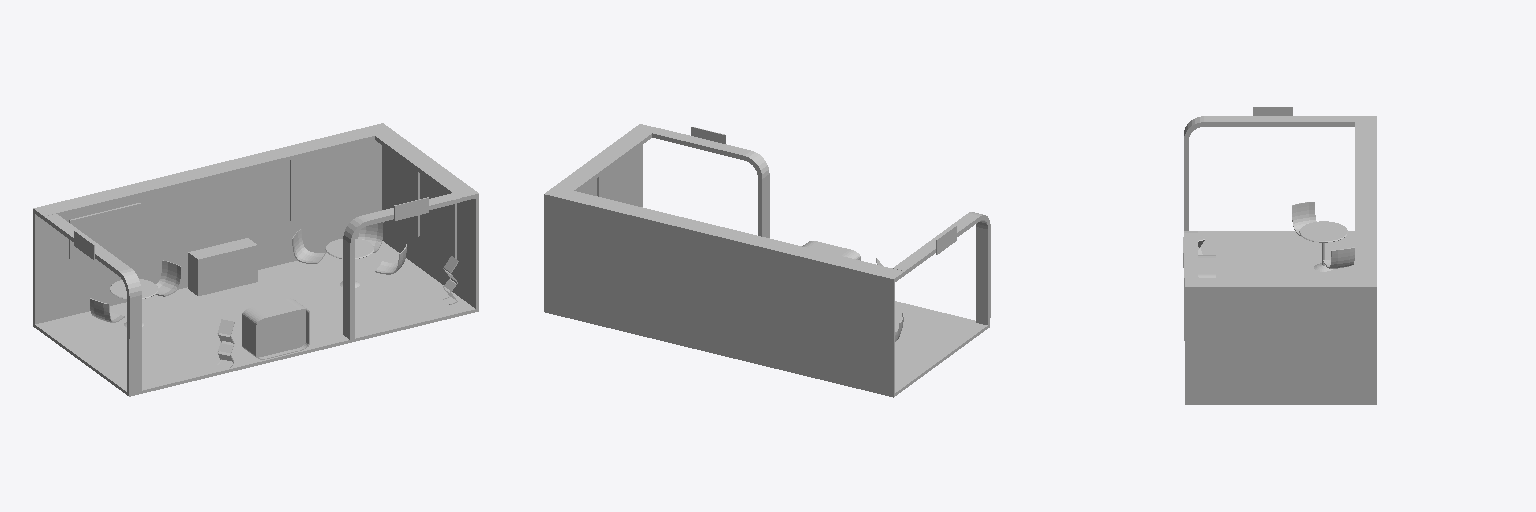
Rendered from exhibstall.obj.
3 views of the same model, side by side, from view 1: azimuth 30°, elevation 25°; view 2: azimuth 150°, elevation 25°; view 3: azimuth 270°, elevation 25° (orthographic).
Parts seen in each view (by area): view 1: Box001_Untitled.024, Box004_Untitled.008, Rectangle001_Untitled.005, Box007_Untitled.010, Line001_Untitled.019, Box003_Untitled.009, Line002_Untitled.022, Box006_Untitled.003, Box005_Untitled.035, Line009_Untitled.015, Cylinder001_Untitled.023, Box008_Untitled.004; view 2: Box001_Untitled.024, Line001_Untitled.019, Line002_Untitled.022, Box006_Untitled.003; view 3: Box001_Untitled.024, Line001_Untitled.019, Cylinder020_Untitled.016, Line002_Untitled.022, Line012_Untitled.013.
Part boxes in pixels (bbox=[...]): Box001_Untitled.024: bbox=[33, 123, 478, 396]; Box004_Untitled.008: bbox=[290, 142, 366, 220]; Rectangle001_Untitled.005: bbox=[242, 298, 309, 359]; Box007_Untitled.010: bbox=[188, 238, 257, 295]; Line001_Untitled.019: bbox=[44, 214, 141, 393]; Box003_Untitled.009: bbox=[69, 203, 140, 259]; Line002_Untitled.022: bbox=[343, 193, 459, 339]; Box006_Untitled.003: bbox=[428, 179, 456, 258]; Box005_Untitled.035: bbox=[391, 152, 419, 236]; Line009_Untitled.015: bbox=[156, 260, 181, 296]; Cylinder001_Untitled.023: bbox=[325, 239, 373, 287]; Box008_Untitled.004: bbox=[394, 197, 428, 220]; Box001_Untitled.024: bbox=[544, 124, 989, 397]; Line001_Untitled.019: bbox=[893, 212, 990, 324]; Line002_Untitled.022: bbox=[652, 128, 769, 237]; Box006_Untitled.003: bbox=[597, 157, 625, 202]; Box001_Untitled.024: bbox=[1185, 116, 1376, 404]; Line001_Untitled.019: bbox=[1184, 116, 1354, 230]; Cylinder020_Untitled.016: bbox=[1299, 221, 1347, 271]; Line002_Untitled.022: bbox=[1184, 231, 1198, 340]; Line012_Untitled.013: bbox=[1292, 202, 1316, 236].
Bounding box in the file's own units: 17.79 × 6.15 × 8.52.